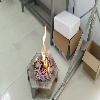fire: (41, 24, 49, 75), (34, 57, 38, 63), (37, 70, 37, 72)
